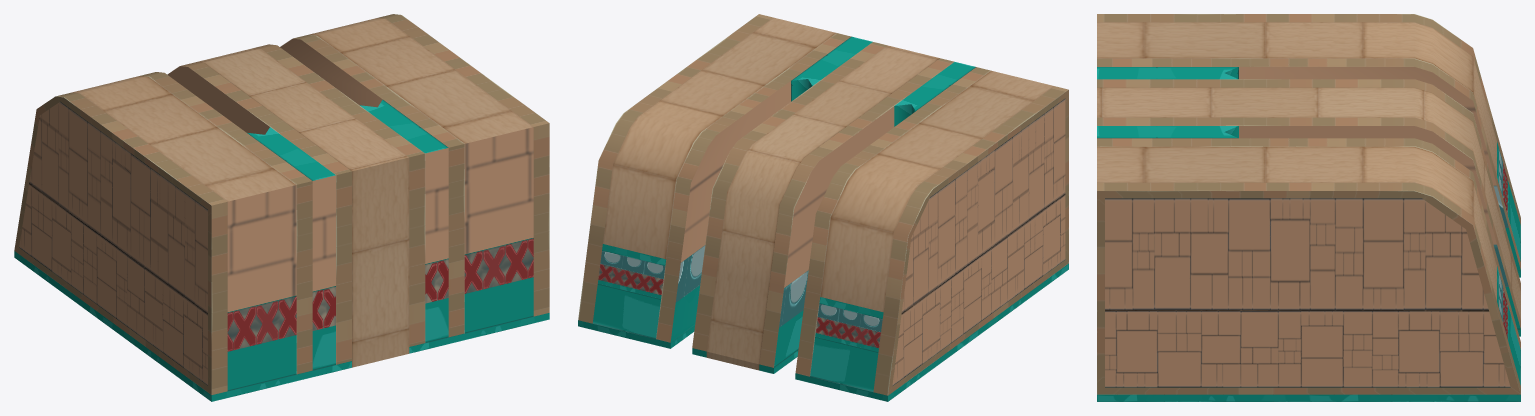
The model's file is PawMesh.fbx.
The picture shows the model from 3 angles, left to right: view 1: azimuth 30°, elevation 25°; view 2: azimuth 150°, elevation 25°; view 3: azimuth 270°, elevation 25°; orthographic projection. The views are drawn at different scales.
Parts seen in each view (by area): view 1: BigTemple_Paw; view 2: BigTemple_Paw; view 3: BigTemple_Paw.
Part boxes in pixels (box(x1,y1,x2,y2)): BigTemple_Paw: box(14, 14, 549, 401); BigTemple_Paw: box(578, 14, 1068, 401); BigTemple_Paw: box(1097, 14, 1520, 401).
Size of the model in its own units: 5760 by 3197 by 5824.
